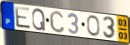3: (102, 16, 117, 39), (67, 12, 80, 36)
C: (49, 10, 66, 34)
E: (14, 6, 32, 31)
O: (86, 15, 101, 38)
Q: (31, 8, 47, 32)
